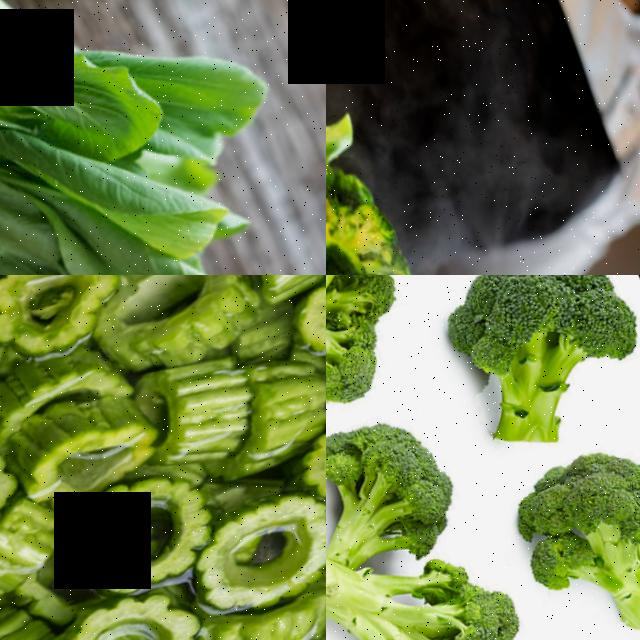bitter gourd: (81, 275, 277, 394), (140, 345, 273, 477), (0, 384, 143, 506)
bok choy: (0, 0, 252, 252)
broccoli: (410, 275, 640, 483), (326, 9, 474, 275), (485, 396, 640, 640), (326, 367, 500, 579), (326, 512, 548, 640), (326, 278, 424, 435)
